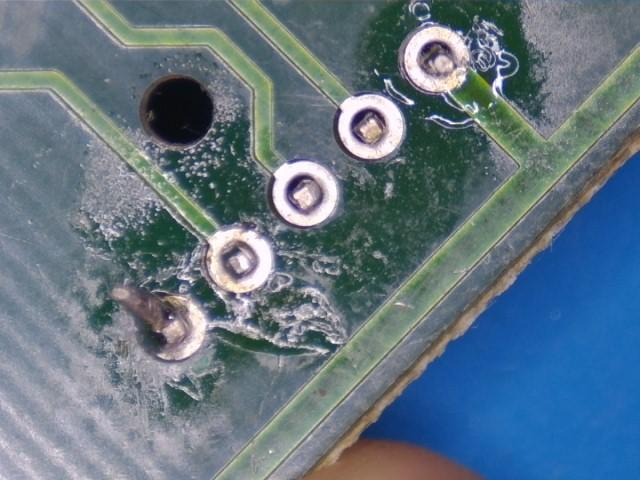pcb_defect: (206, 229, 272, 293), (141, 297, 206, 360)
